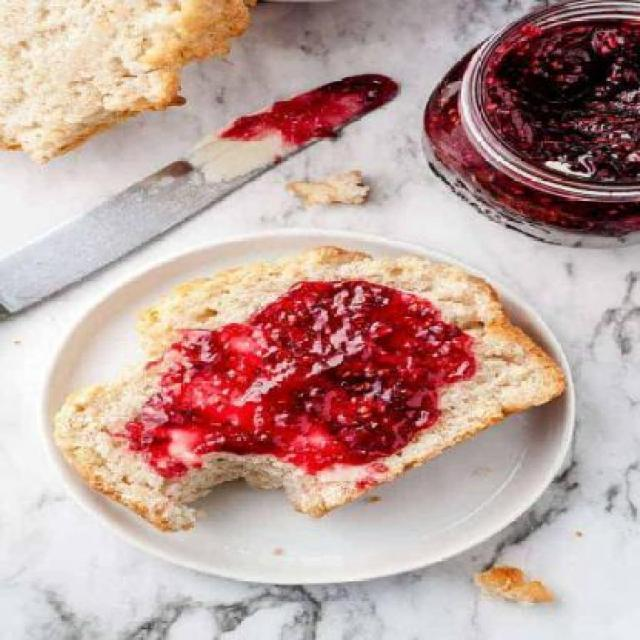Spread: (138, 284, 478, 478)
